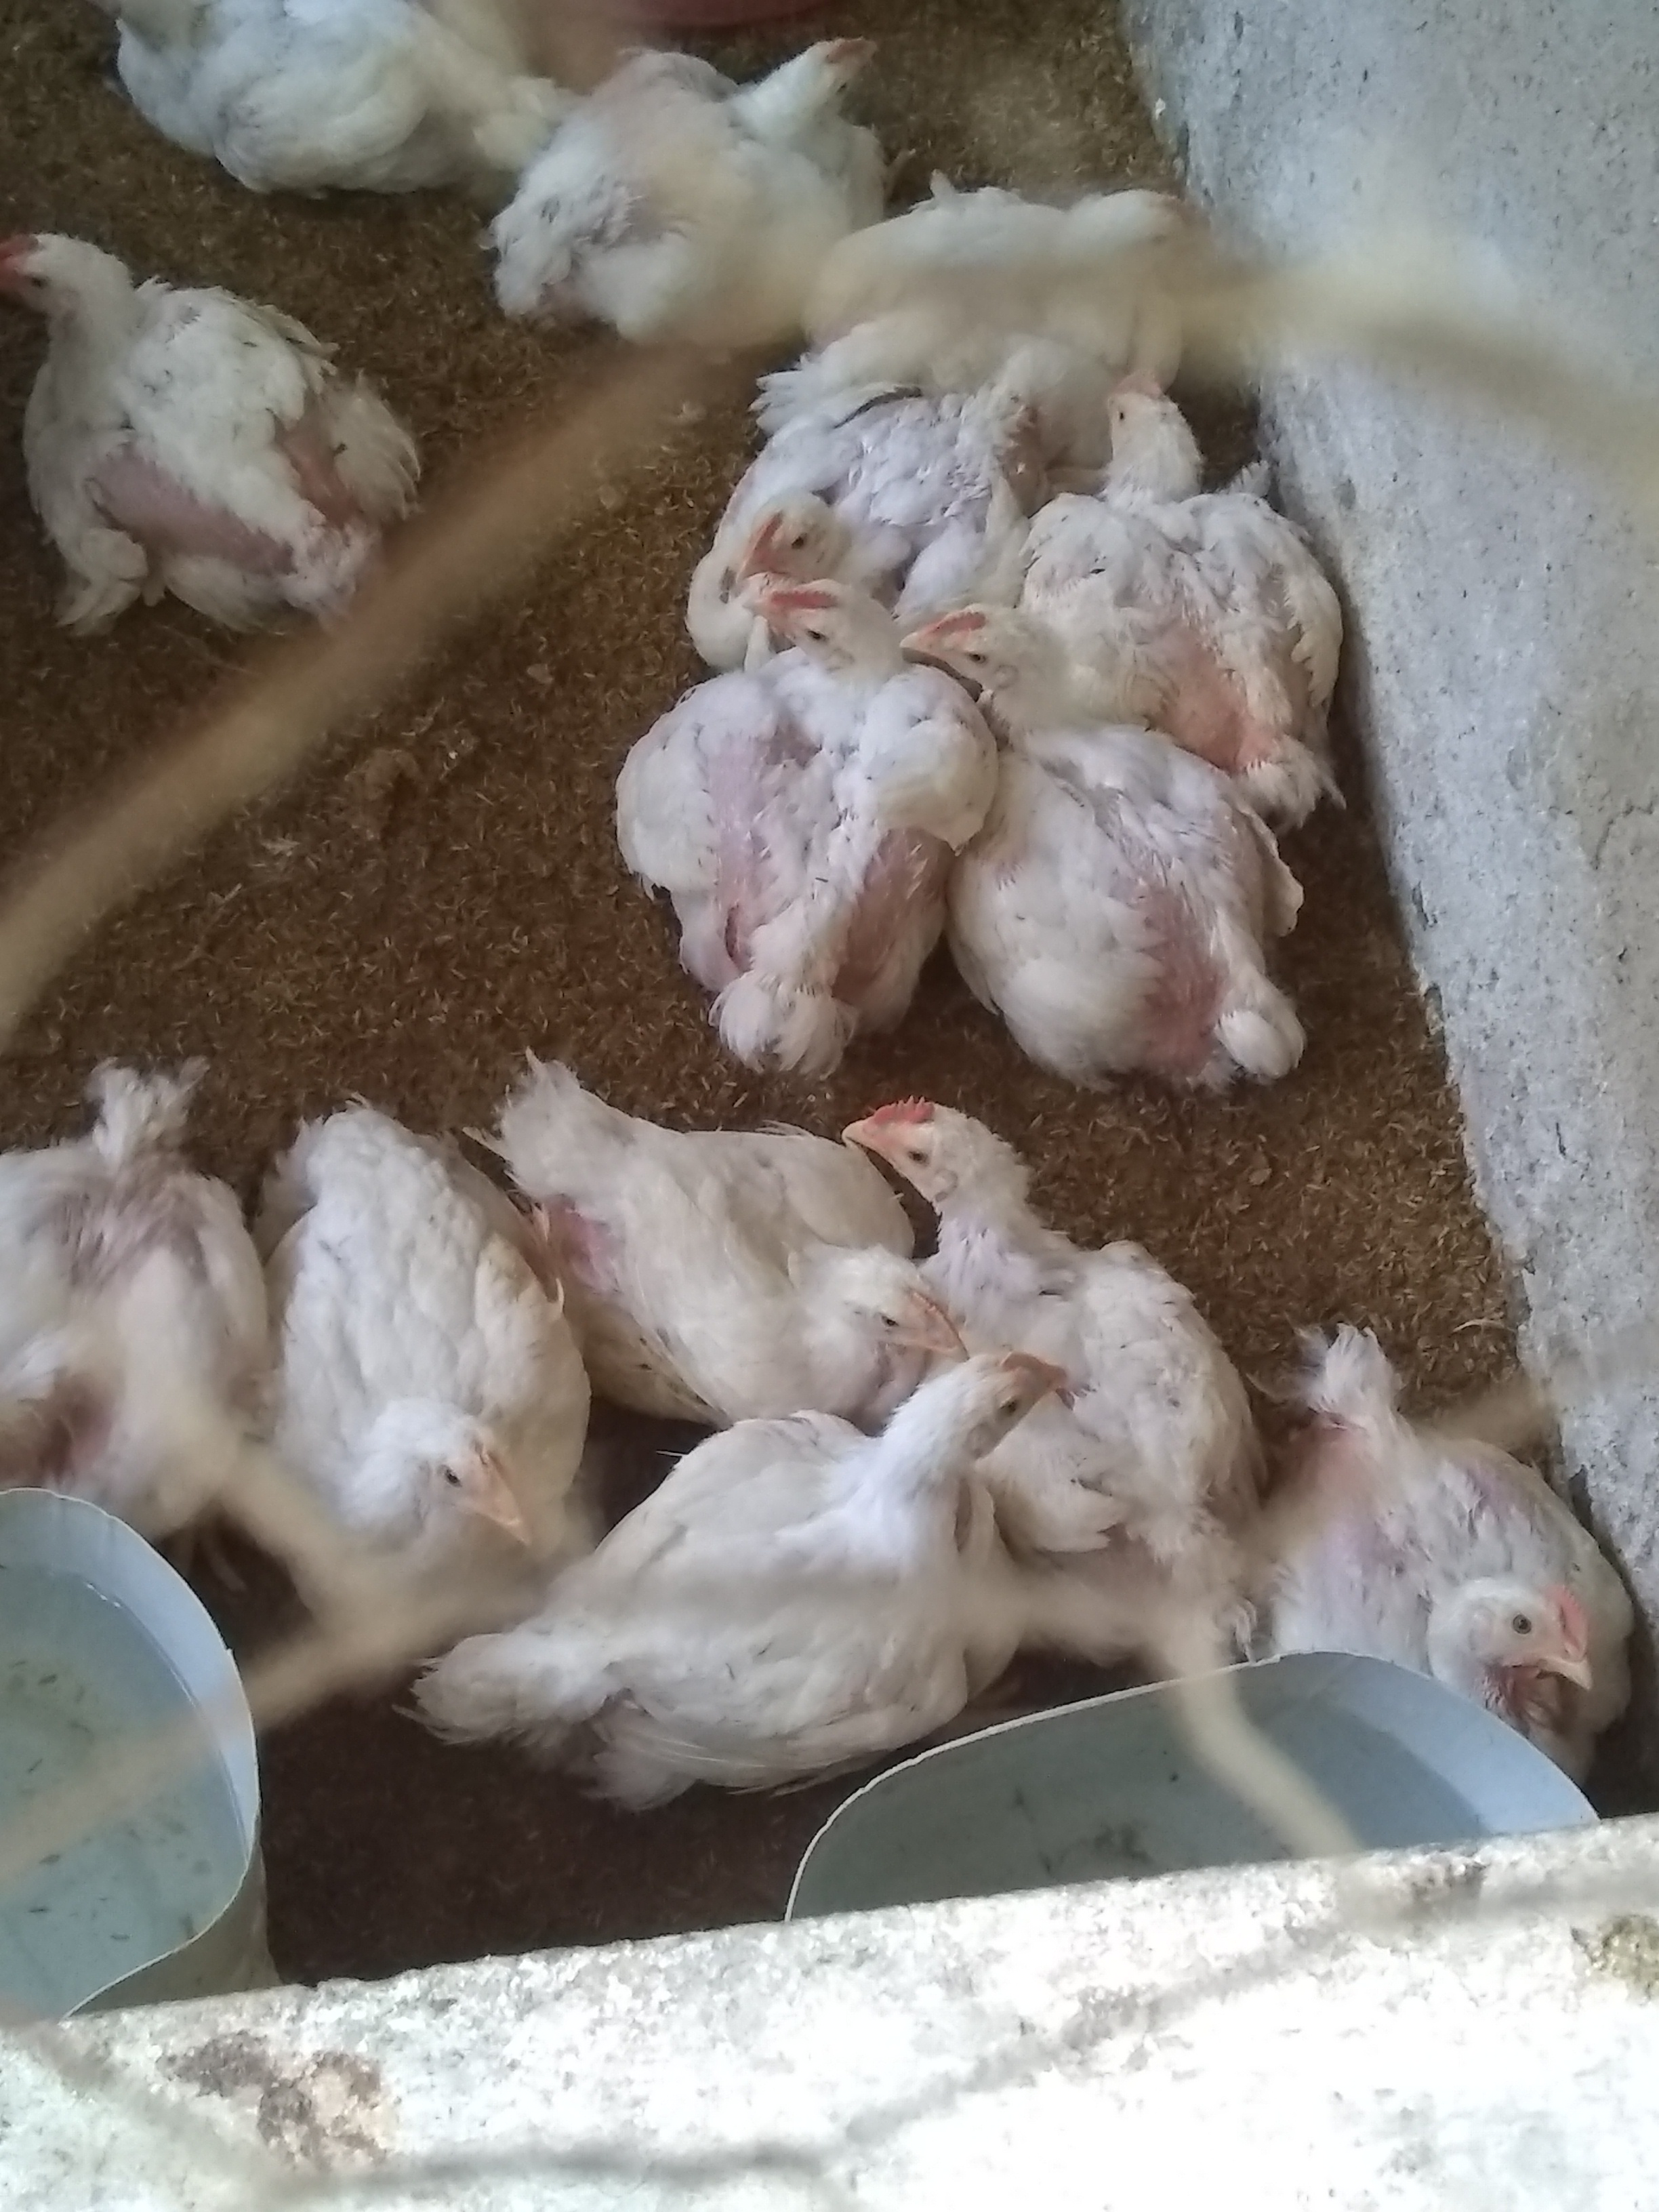Pollos: (495, 1324, 1086, 1829), (0, 199, 484, 617), (247, 1101, 606, 1616), (490, 1038, 951, 1416), (1300, 1310, 1659, 1742), (0, 1024, 272, 1592), (659, 573, 993, 1024), (1009, 373, 1338, 761), (558, 24, 922, 326), (1042, 737, 1310, 1125), (680, 373, 1009, 665), (878, 125, 1213, 388), (112, 0, 509, 209), (821, 1076, 1077, 1223)
